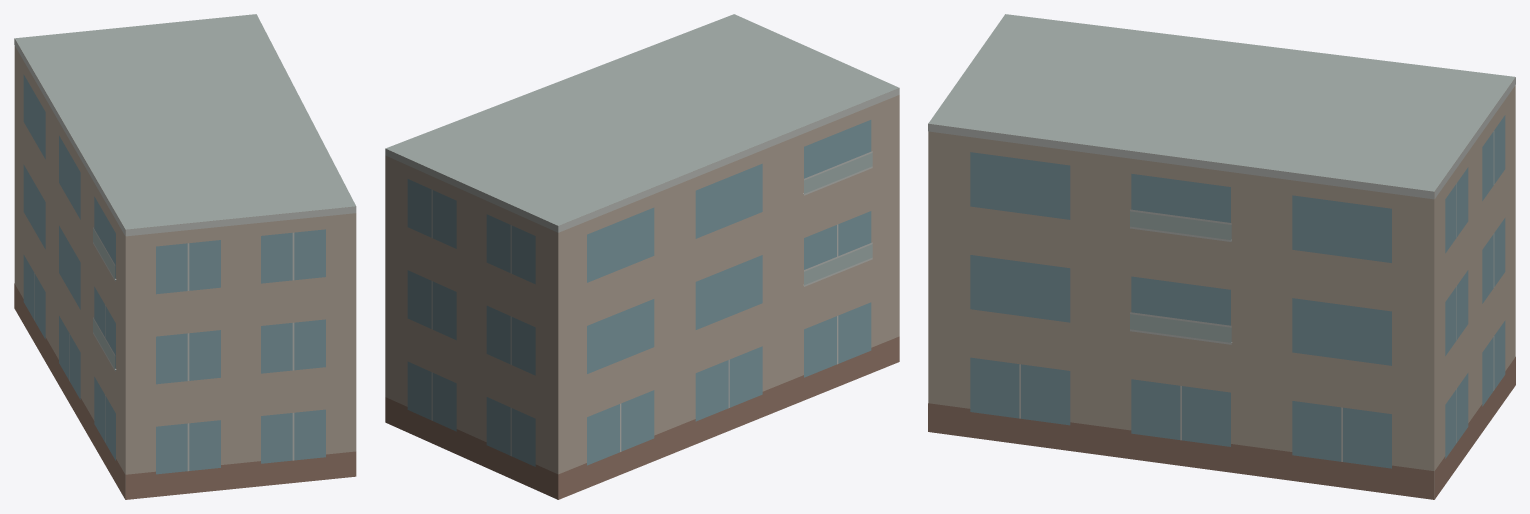
Rendered from survey-upis-32636358.glb.
3 views of the same model, side by side, from view 1: azimuth 30°, elevation 25°; view 2: azimuth 150°, elevation 25°; view 3: azimuth 270°, elevation 25° (orthographic). The views are drawn at different scales.
Visible parts, largest first — view 1: survey-upis-32636358.tmp; view 2: survey-upis-32636358.tmp; view 3: survey-upis-32636358.tmp.
Boxes of the visible parts, x1,y1,x2,y2 form: survey-upis-32636358.tmp: (14, 14, 356, 499); survey-upis-32636358.tmp: (385, 14, 899, 499); survey-upis-32636358.tmp: (928, 14, 1515, 499).
Size of the model in its own units: 12 by 9.7 by 16.77.
